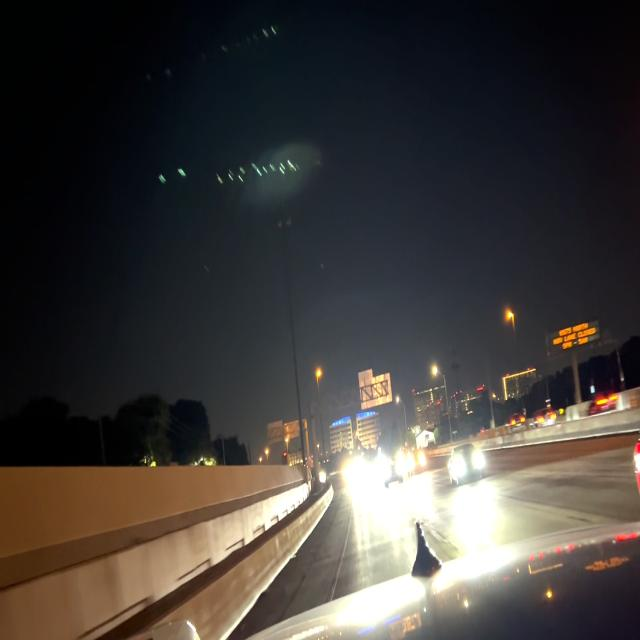back-of-sign: (359, 366, 393, 413)
